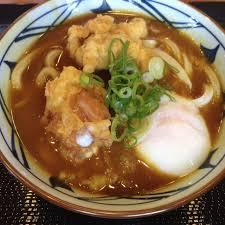curry: (1, 1, 225, 219)
